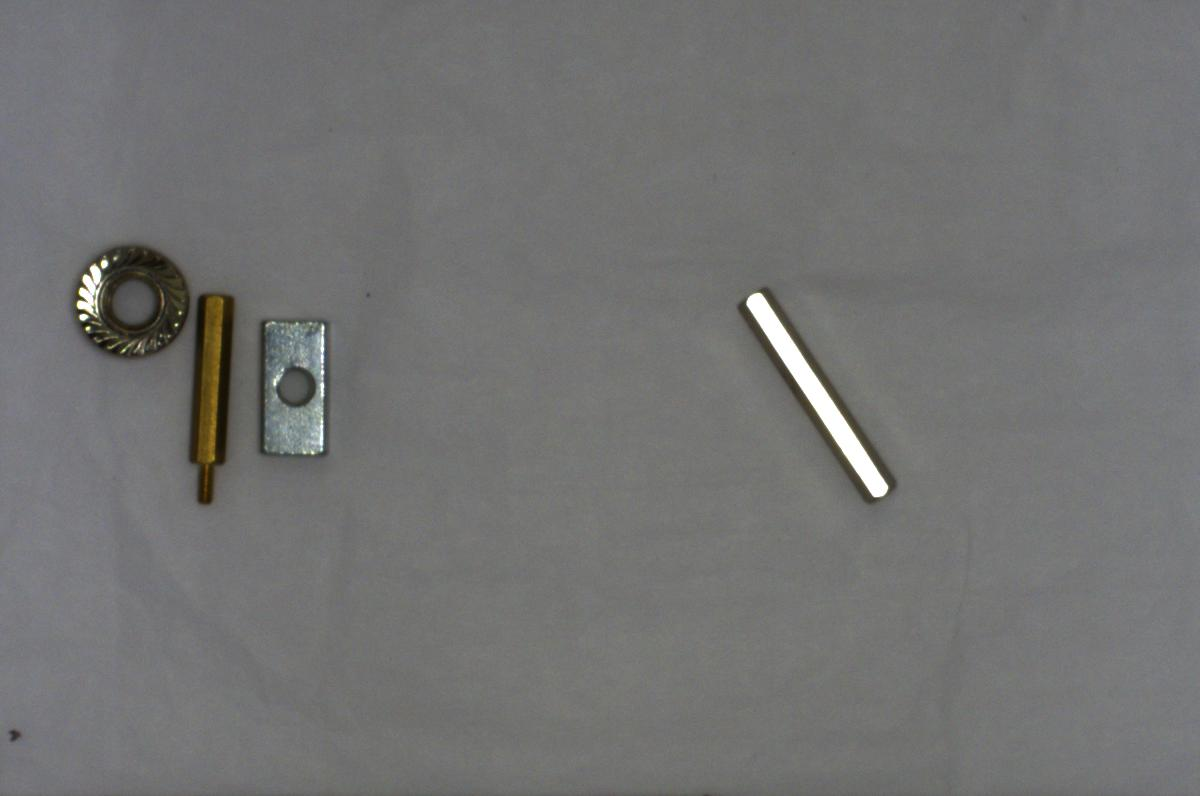Double hexagonal column: (721, 274, 907, 512)
Flange nut: (64, 234, 195, 361)
Hexagon pillar: (182, 283, 241, 509)
Rectangular nut: (248, 306, 332, 468)
